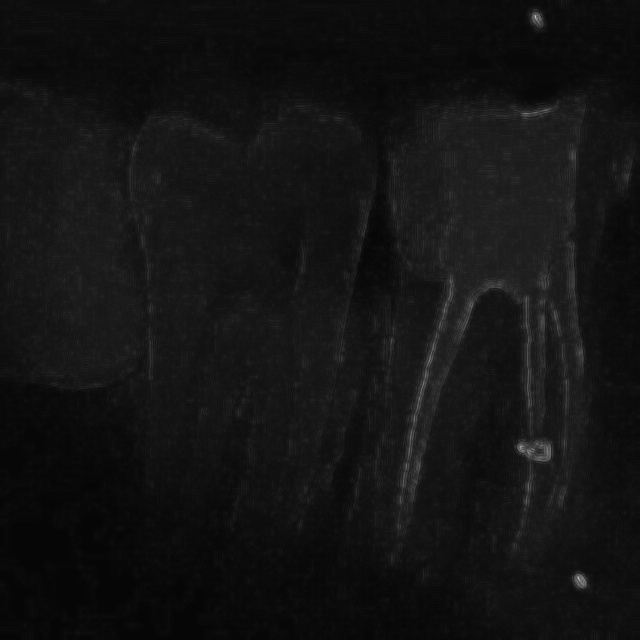Class 0- No endodontic treatment: (370, 75, 625, 614)
cavity: (90, 66, 385, 606)
